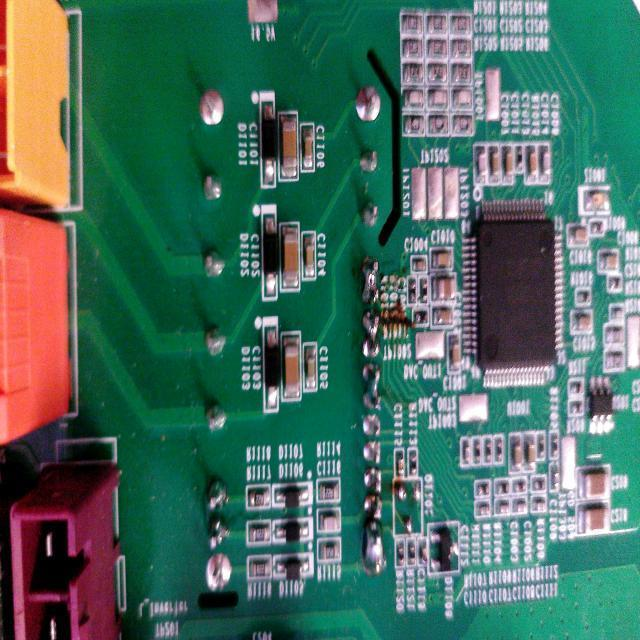Soldering bridge: (358, 307, 387, 362), (358, 250, 385, 308), (360, 518, 386, 578), (360, 358, 386, 414)
